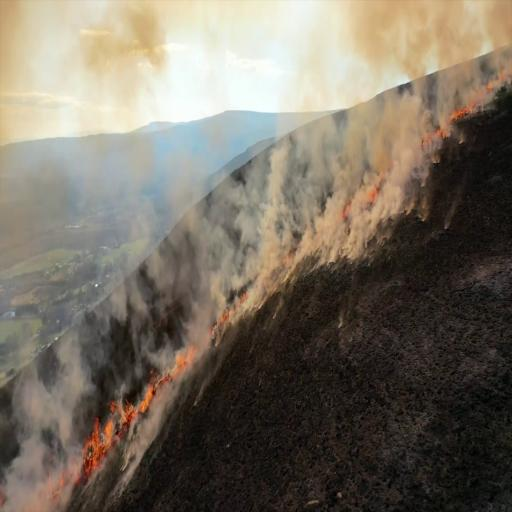fire: (81, 422, 112, 465)
smoke: (355, 0, 512, 44), (262, 68, 296, 252), (77, 0, 163, 65), (366, 96, 414, 204), (195, 223, 233, 345), (314, 186, 372, 263), (240, 176, 272, 294)
